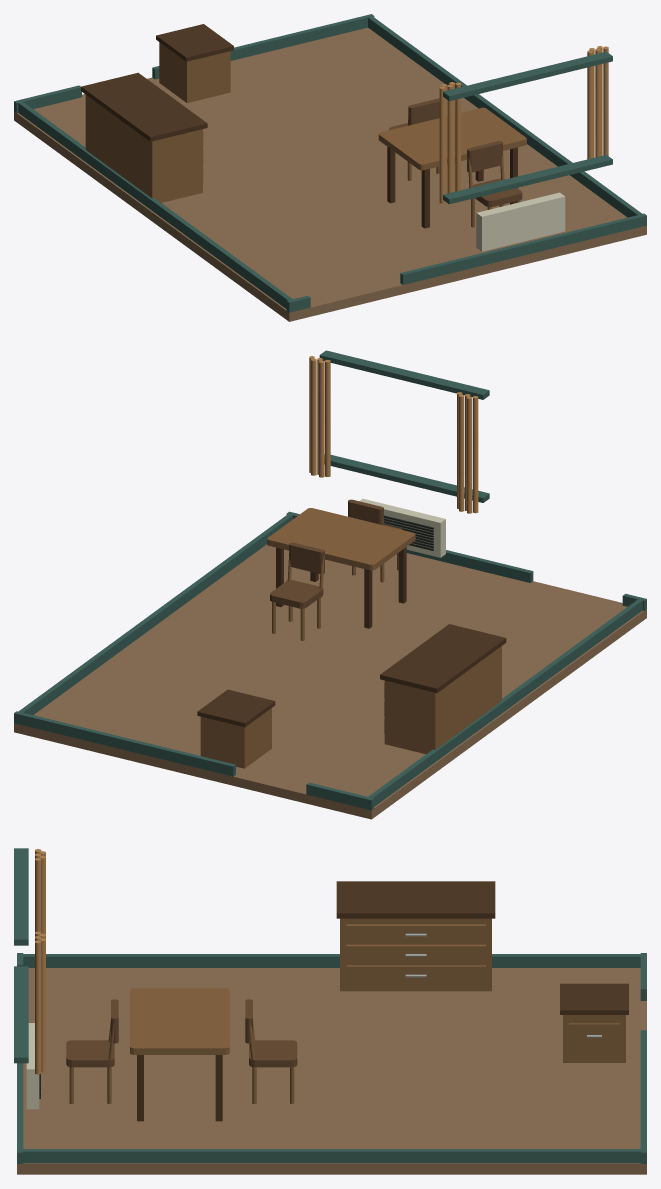
Rendered from SM_Town_Motel_Room6Interior.fbx.
3 renders of one model, top to bottom at view 1: azimuth 30°, elevation 25°; view 2: azimuth 150°, elevation 25°; view 3: azimuth 270°, elevation 25°, orthographic. The views are drawn at different scales.
Parts seen in each view (by area): view 1: SM_Town_Motel_Room6Interior; view 2: SM_Town_Motel_Room6Interior; view 3: SM_Town_Motel_Room6Interior.
Boxes of the visible parts, <box> form: SM_Town_Motel_Room6Interior: <box>14,14,646,321</box>; SM_Town_Motel_Room6Interior: <box>14,350,646,819</box>; SM_Town_Motel_Room6Interior: <box>14,848,646,1174</box>.
Bounding box in the file's own units: 4.5 × 6.03 × 2.26.
